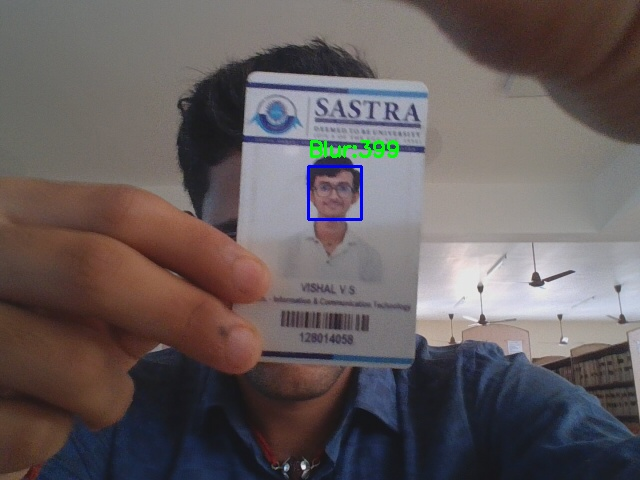fake: (308, 166, 361, 219)
